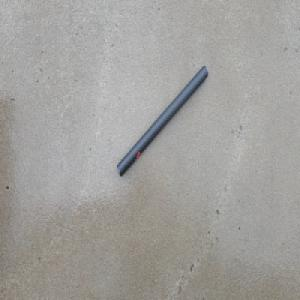LuggagePart: (116, 64, 208, 177)
